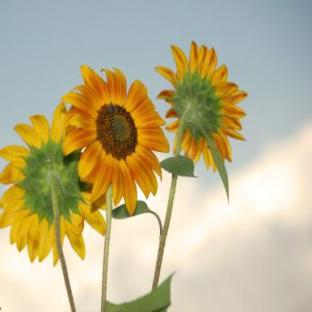sunflower: (0, 42, 247, 312)
